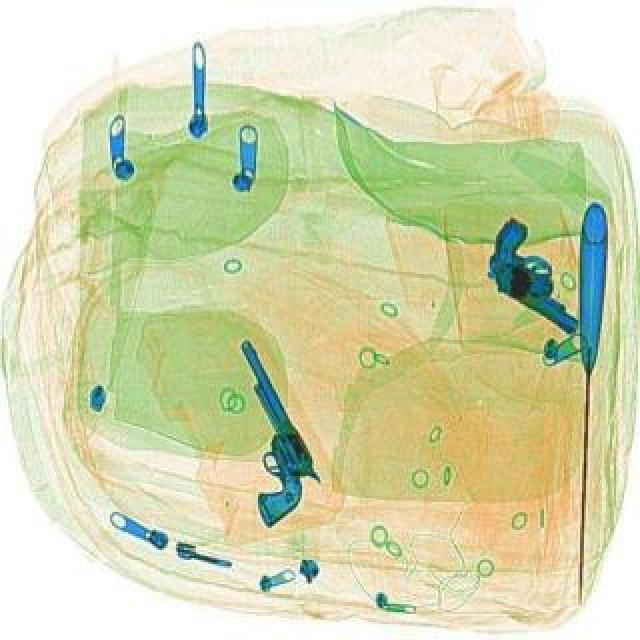gun: (178, 336, 338, 526), (470, 214, 618, 336)
knife: (570, 202, 614, 606)
